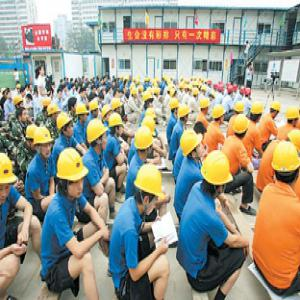none: (16, 106, 28, 125), (38, 65, 45, 78)
yellow: (54, 147, 90, 200), (201, 151, 234, 199), (134, 161, 162, 216), (272, 138, 300, 189), (181, 128, 207, 164), (86, 121, 110, 155), (2, 153, 15, 205), (135, 128, 155, 158), (34, 128, 52, 160), (234, 112, 249, 140), (249, 102, 265, 126), (109, 114, 124, 138), (213, 103, 227, 128), (287, 105, 300, 131), (270, 99, 283, 119), (142, 92, 155, 111), (77, 103, 88, 125), (48, 104, 60, 123), (180, 105, 190, 126), (200, 98, 210, 117), (90, 101, 100, 120), (170, 99, 180, 115)
